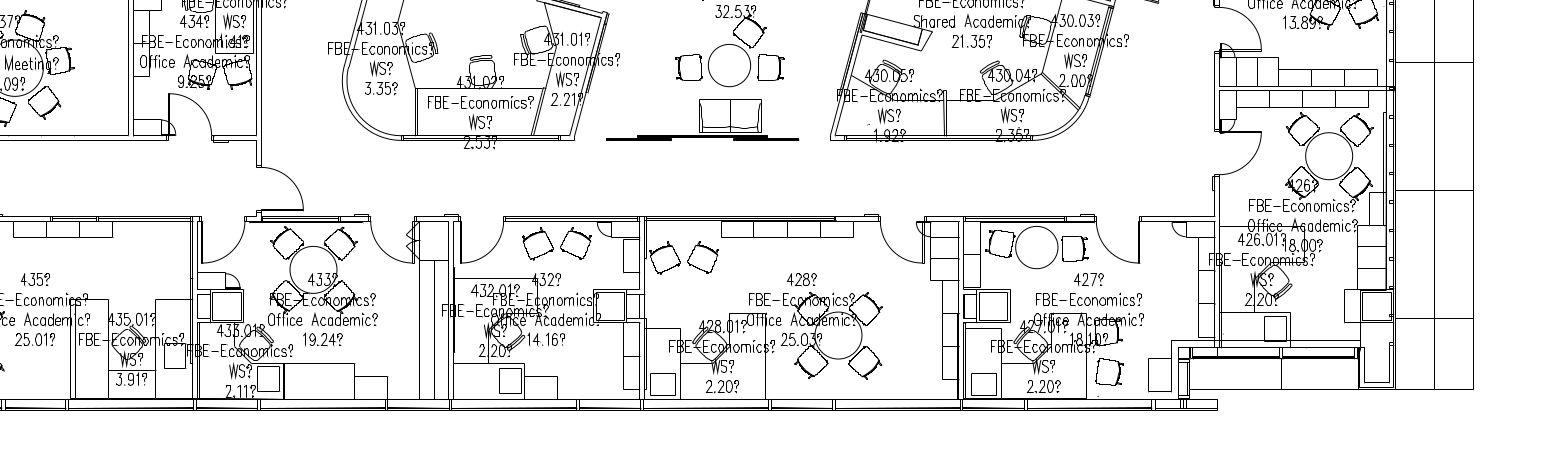door: (200, 210, 248, 265), (259, 159, 307, 214), (162, 88, 210, 143), (458, 211, 506, 266), (369, 214, 417, 269), (878, 215, 926, 270), (1093, 214, 1141, 269), (1217, 125, 1265, 180), (1214, 1, 1262, 55)
